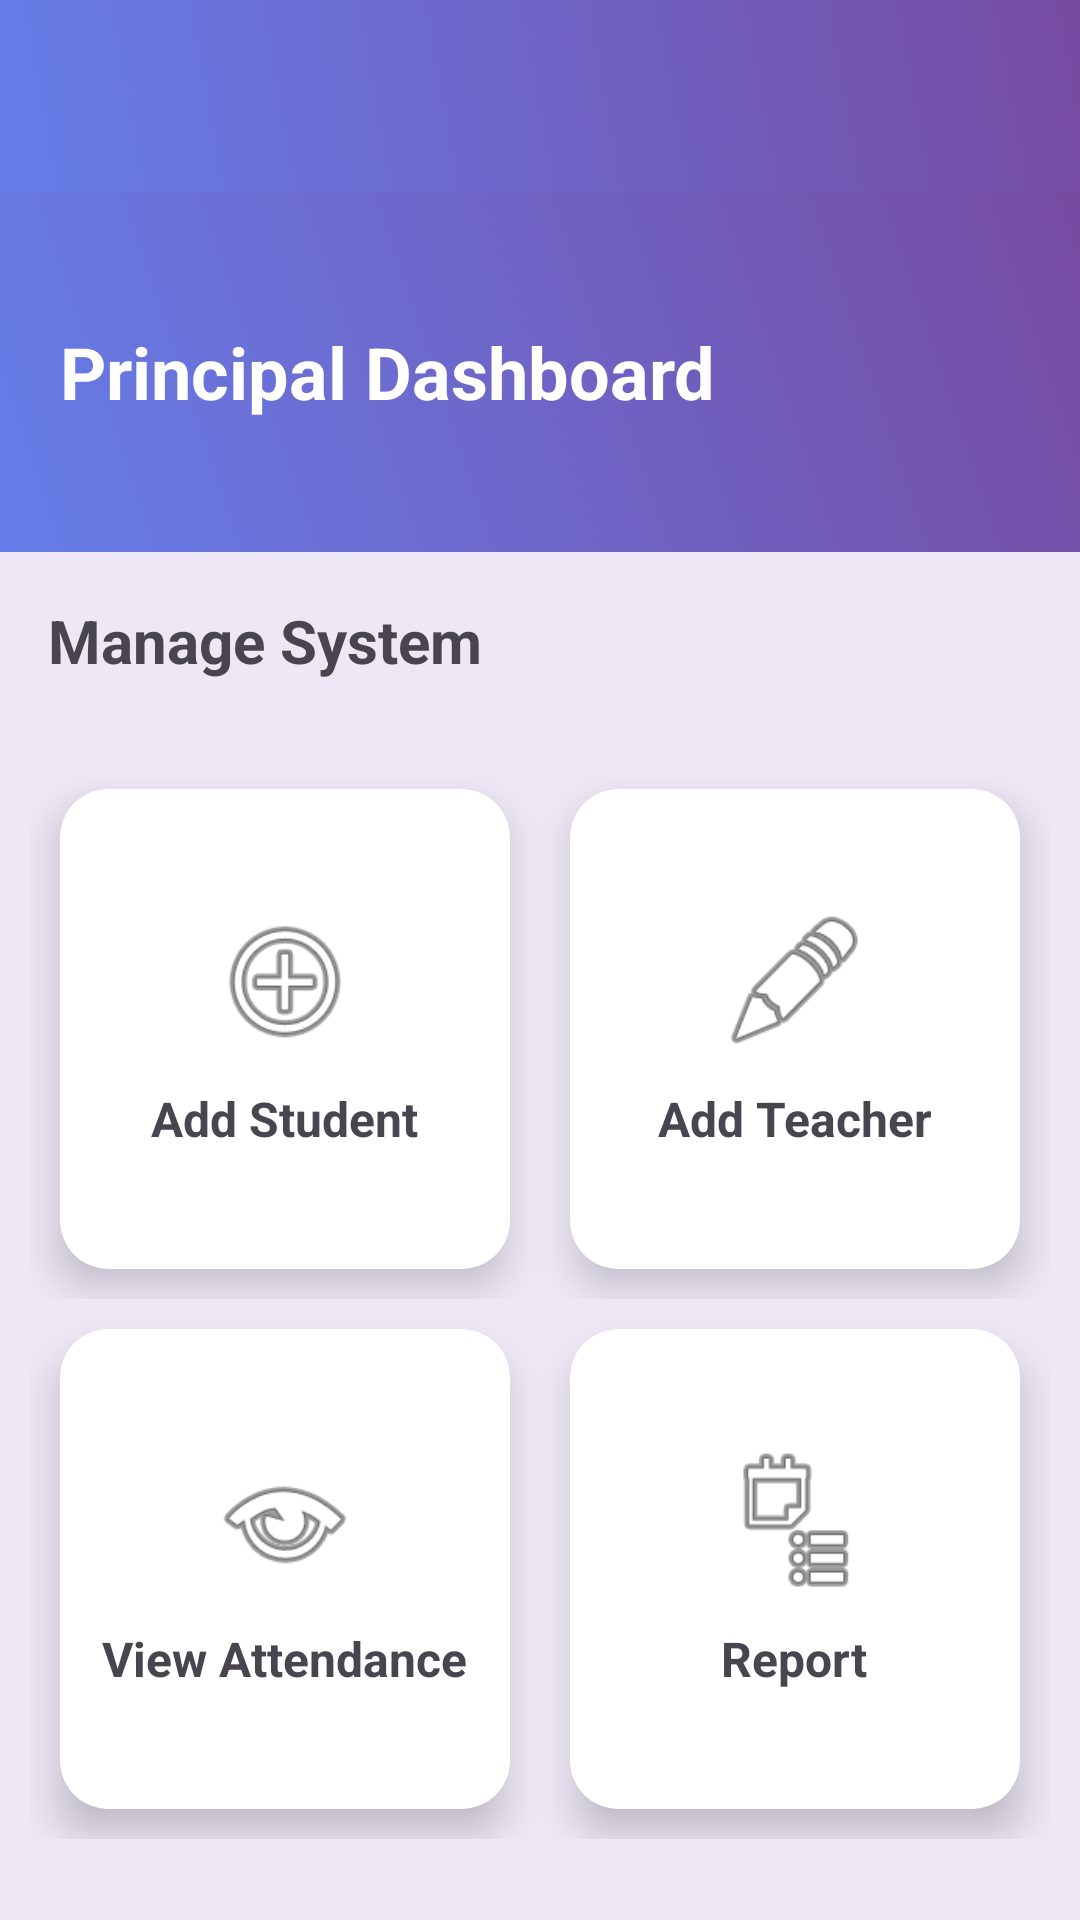

Screen size 1080 × 1920. Icon name, then its box in pixels as (x1, y1, x2, y2):
agenda: (743, 1453, 849, 1587)
edit: (731, 916, 858, 1044)
